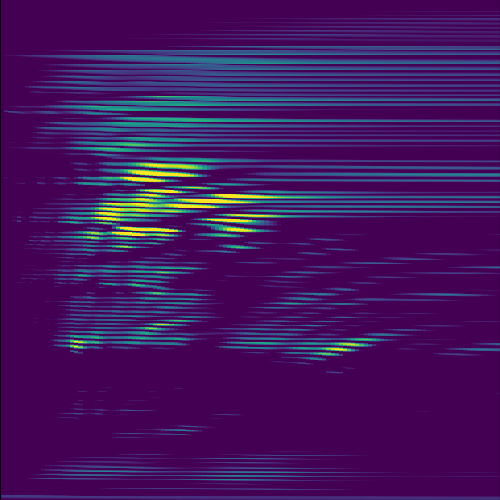semblance: (159, 191, 286, 216), (119, 160, 221, 185), (204, 212, 278, 238)
